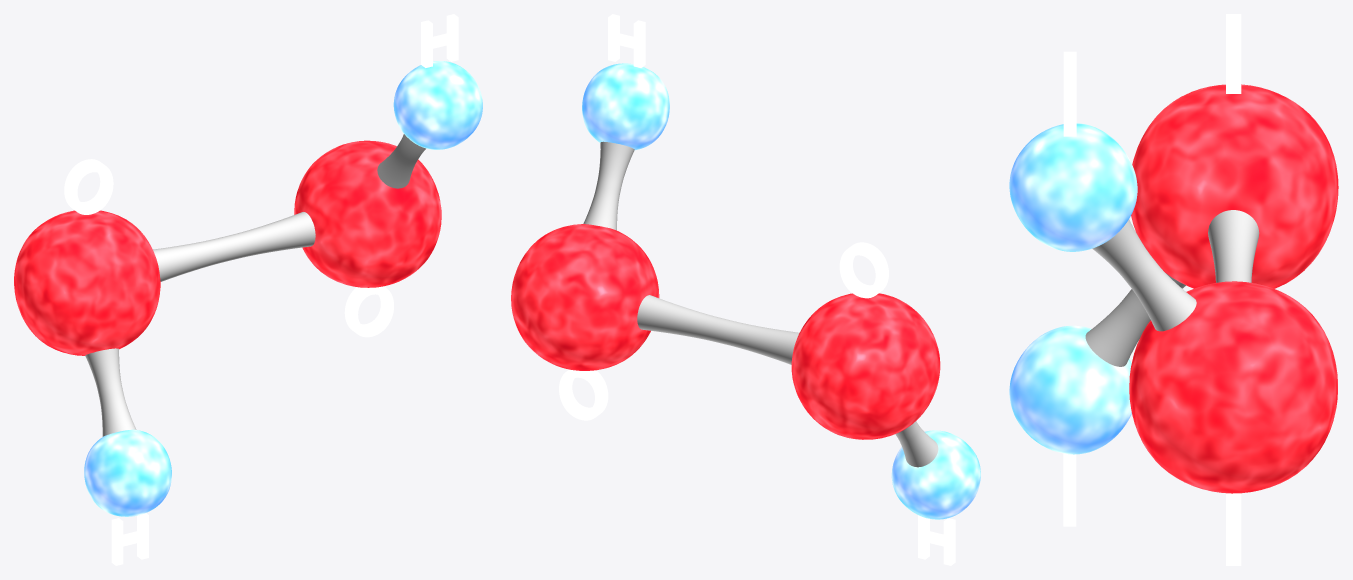
The picture shows the model from 3 angles, left to right: view 1: azimuth 30°, elevation 25°; view 2: azimuth 150°, elevation 25°; view 3: azimuth 270°, elevation 25°; orthographic projection. The views are drawn at different scales.
Visible parts, largest first — view 1: Text.004; view 2: Text.004; view 3: Text.004.
Part boxes in pixels (x1,y1,x2,y2): Text.004: [14, 14, 482, 565]; Text.004: [511, 14, 980, 565]; Text.004: [1009, 14, 1338, 565].
Bounding box in the file's own units: 4.24 × 4.63 × 2.06.
Materials: 4 (2 with a texture image).
